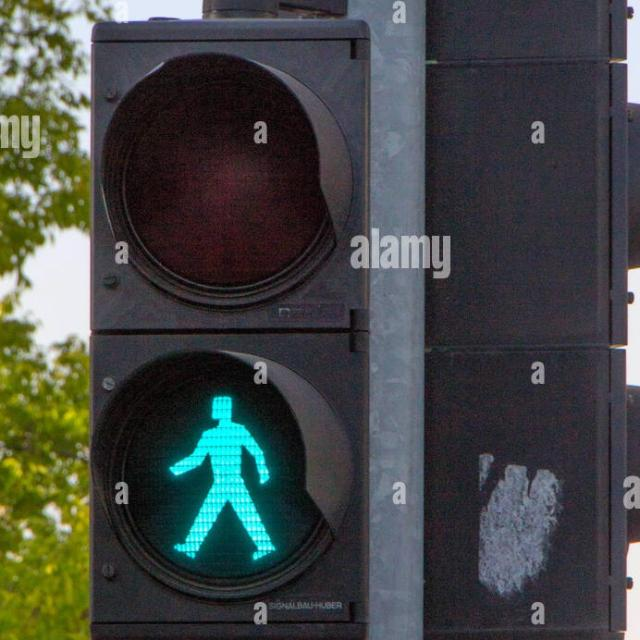green_light: (157, 390, 280, 565)
